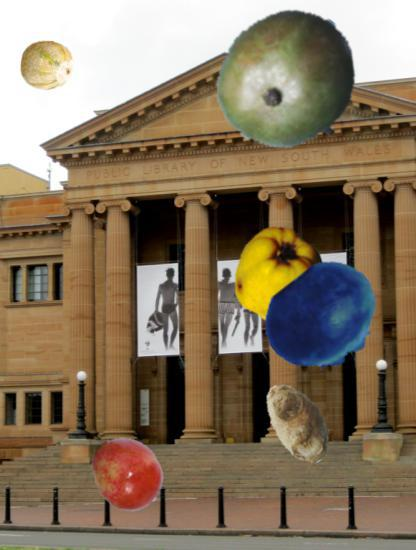Cantaloupe: (20, 38, 75, 93)
Cherry: (89, 436, 166, 513)
Ginger: (254, 379, 343, 468)
Huckleberry: (264, 259, 382, 377)
Mango: (216, 7, 362, 153)
Quince: (232, 228, 329, 325)
